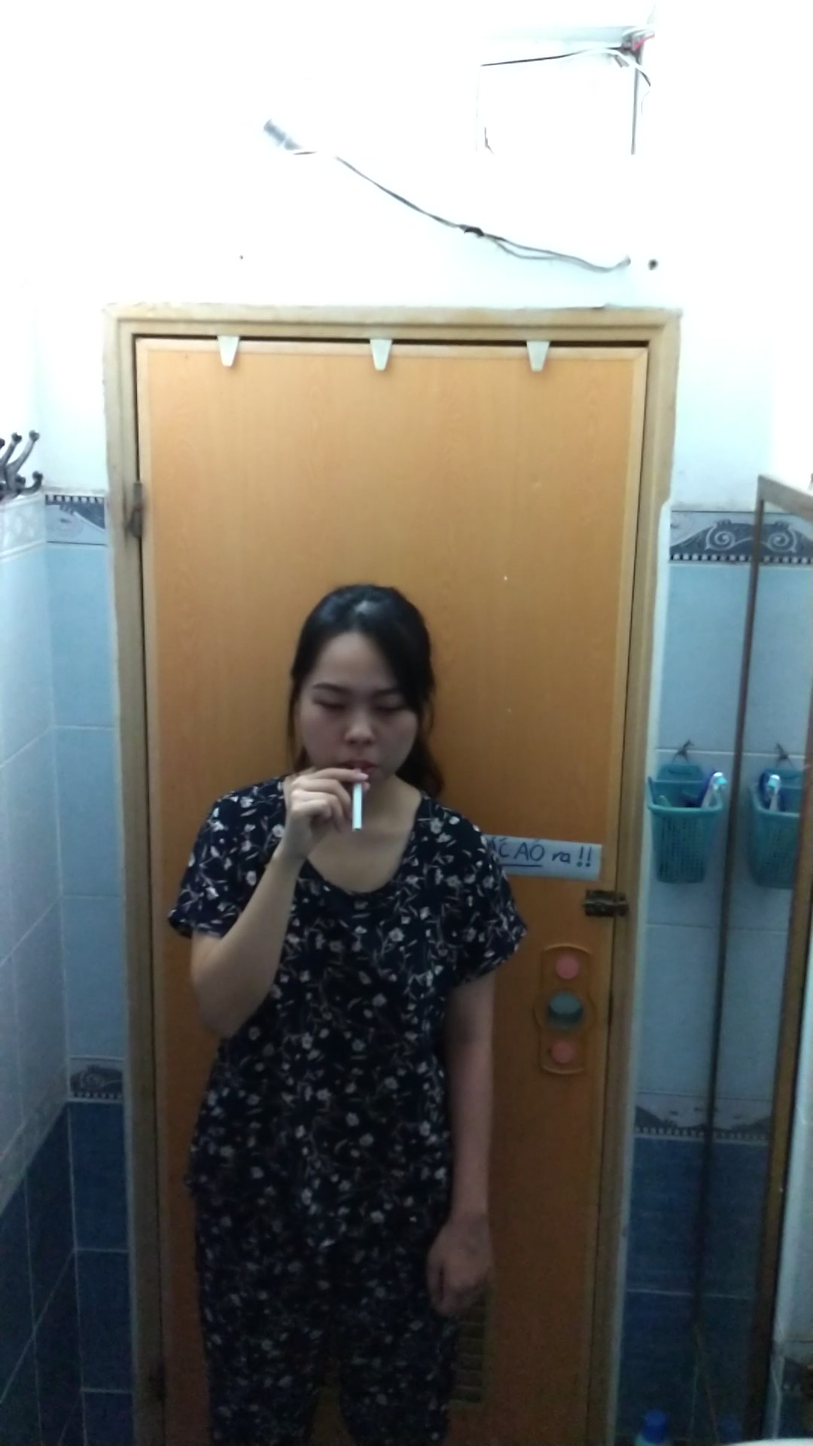cigarette: (346, 781, 370, 838)
person: (171, 554, 536, 1443)
